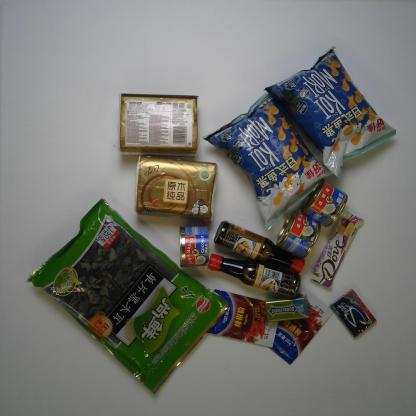Canned Food: (302, 178, 346, 224), (279, 210, 319, 258), (177, 224, 210, 268)
Chocolate: (310, 207, 364, 288)
Dried Food: (30, 204, 227, 392)
Gum: (329, 280, 377, 336), (260, 294, 310, 324)
Puffed Food: (259, 35, 406, 177), (202, 87, 332, 228)
Seasoner: (216, 218, 306, 278), (192, 288, 278, 346), (259, 292, 331, 361), (212, 257, 298, 295)
Tissue: (109, 84, 204, 158), (132, 152, 216, 220)
